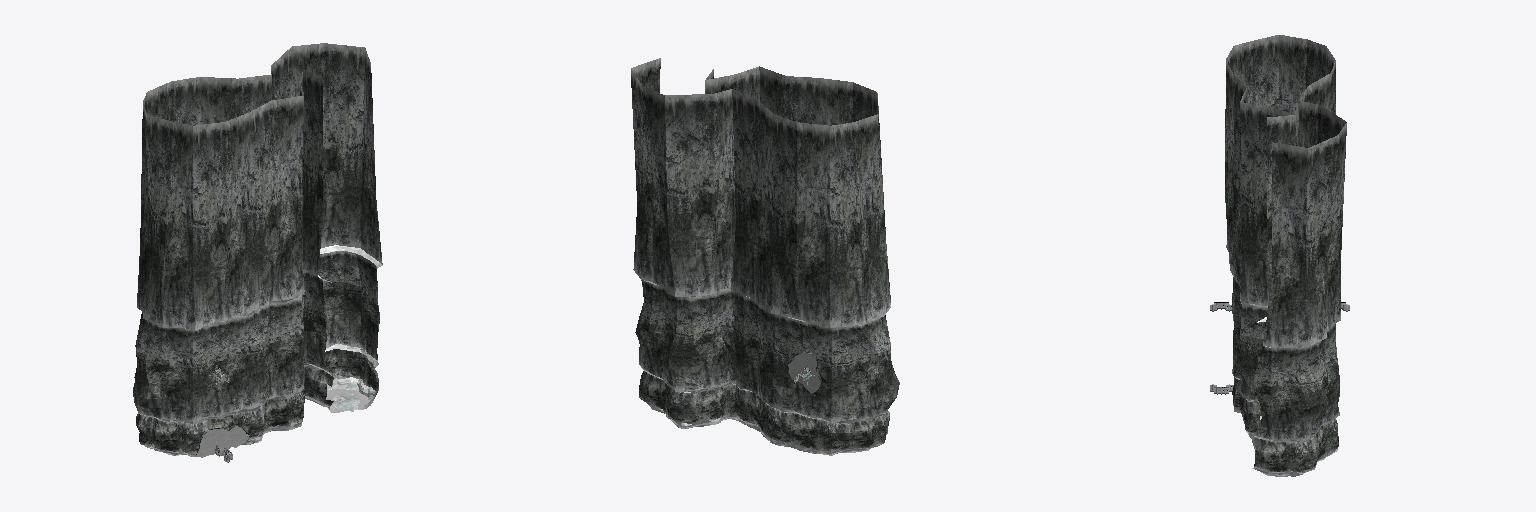
3 renders of one model, left to right at view 1: azimuth 30°, elevation 25°; view 2: azimuth 150°, elevation 25°; view 3: azimuth 270°, elevation 25°, orthographic.
Parts seen in each view (by area): view 1: Mesh1 Model; view 2: Mesh1 Model; view 3: Mesh1 Model.
Part boxes in pixels (x1,y1,x2,y2): Mesh1 Model: (133,43,382,462); Mesh1 Model: (631,58,899,455); Mesh1 Model: (1210,35,1349,476).
Bounding box in the file's own units: 15473 × 20153 × 7654.
17 materials, 17 textured.